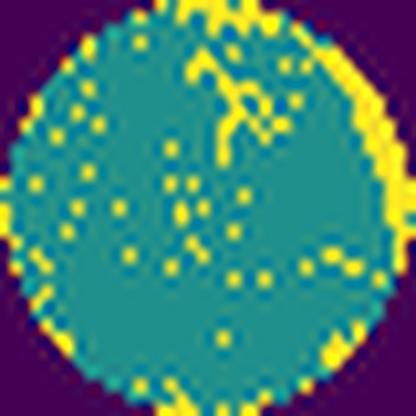Edge-Loc: (291, 17, 416, 272), (169, 0, 284, 40)
